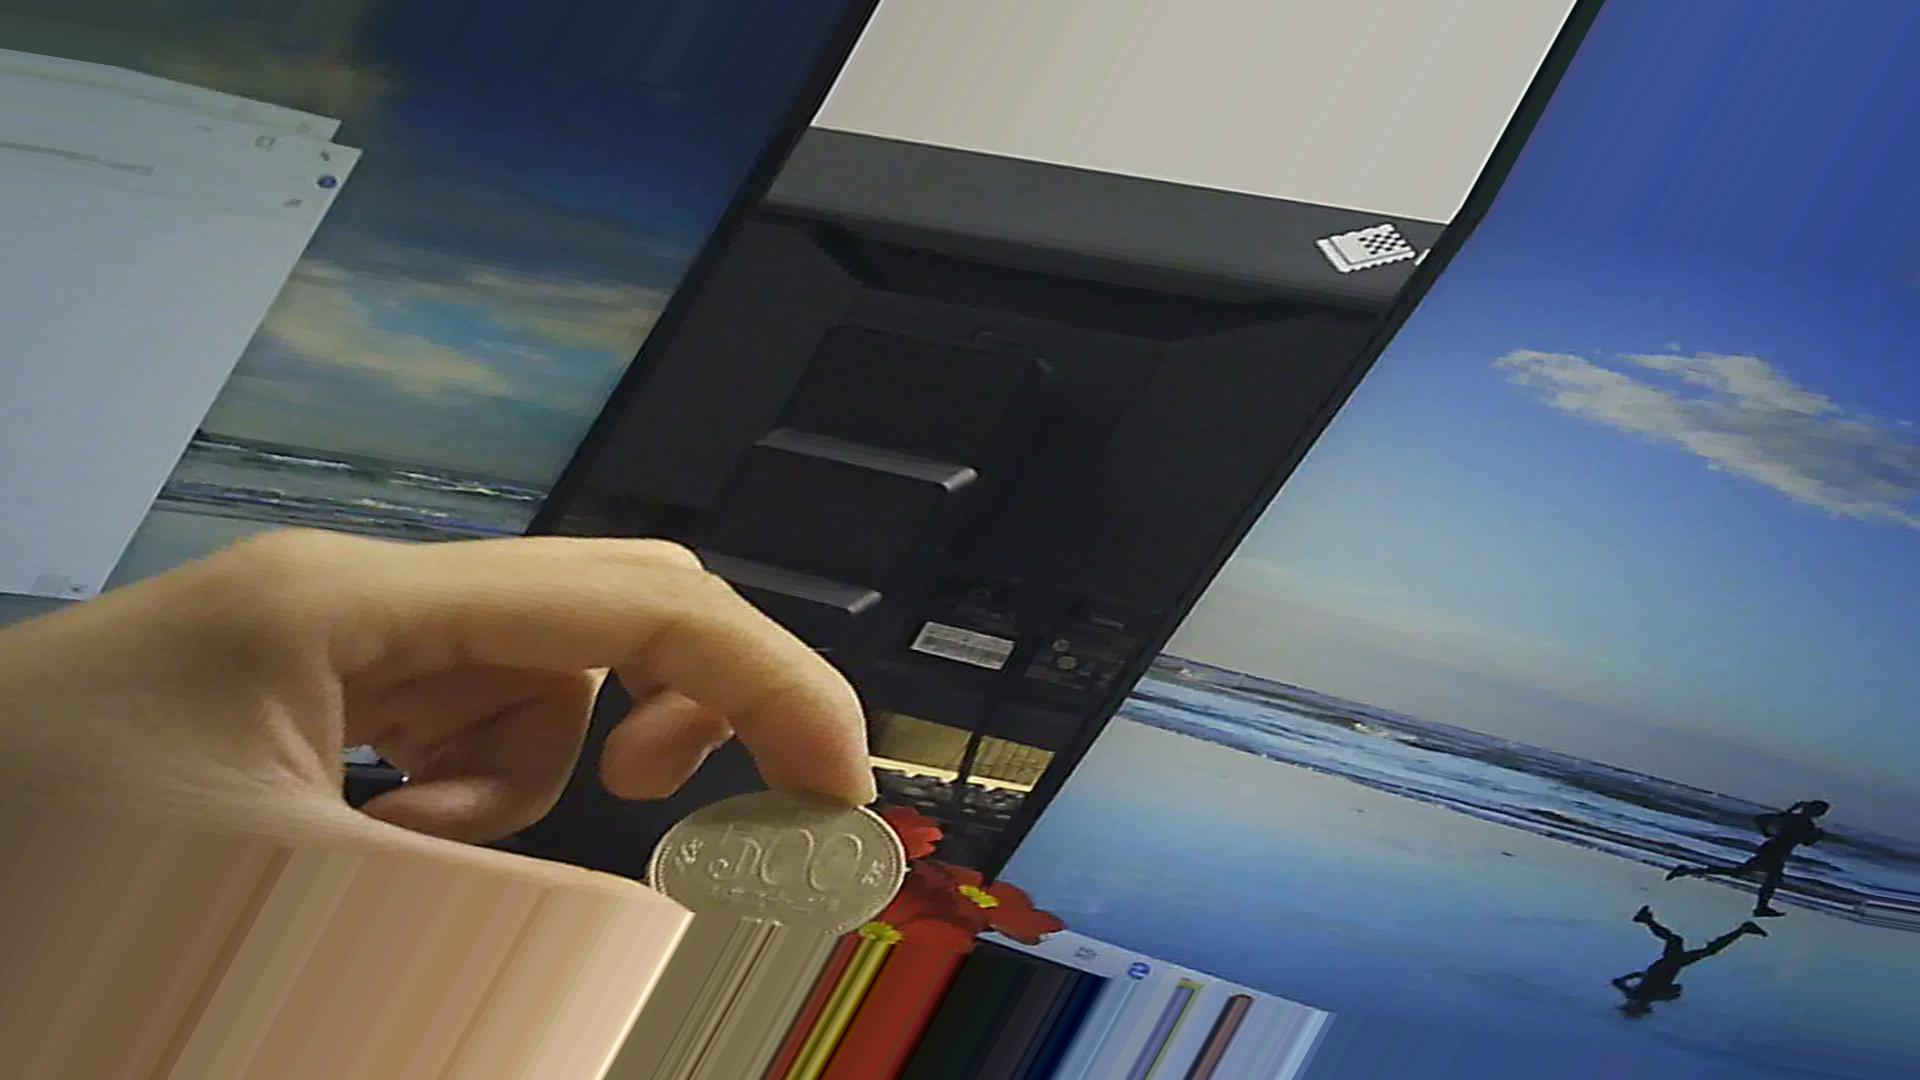500 Yen: (597, 757, 913, 934)
